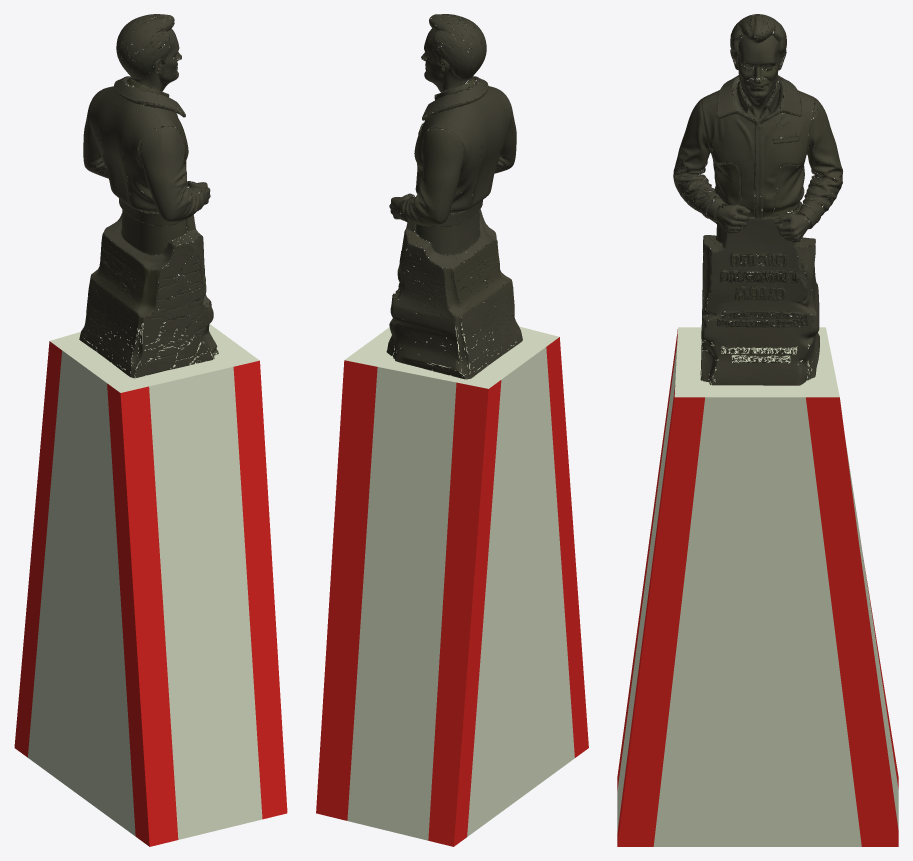
Rendered from Pedestalirineo.glb.
The picture shows the model from 3 angles, left to right: view 1: azimuth 30°, elevation 25°; view 2: azimuth 150°, elevation 25°; view 3: azimuth 270°, elevation 25°; orthographic projection. The views are drawn at different scales.
Visible parts, largest first — view 1: Cube.001, Mesh_0; view 2: Cube.001, Mesh_0; view 3: Cube.001, Mesh_0.
Boxes of the visible parts, x1,y1,x2,y2 form: Cube.001: (14,309,287,846); Mesh_0: (79,14,218,378); Cube.001: (316,313,588,846); Mesh_0: (386,14,522,379); Cube.001: (617,327,898,846); Mesh_0: (673,14,842,385).
Bounding box in the file's own units: 1 × 5.3 × 1.7.
Materials: 3 (1 with a texture image).
